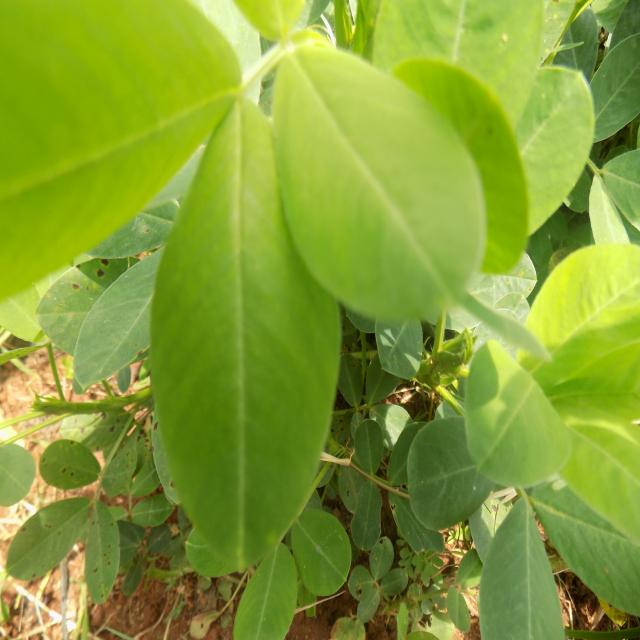Ground nut_healthy: (152, 81, 339, 576), (293, 33, 485, 319), (480, 58, 590, 253)
